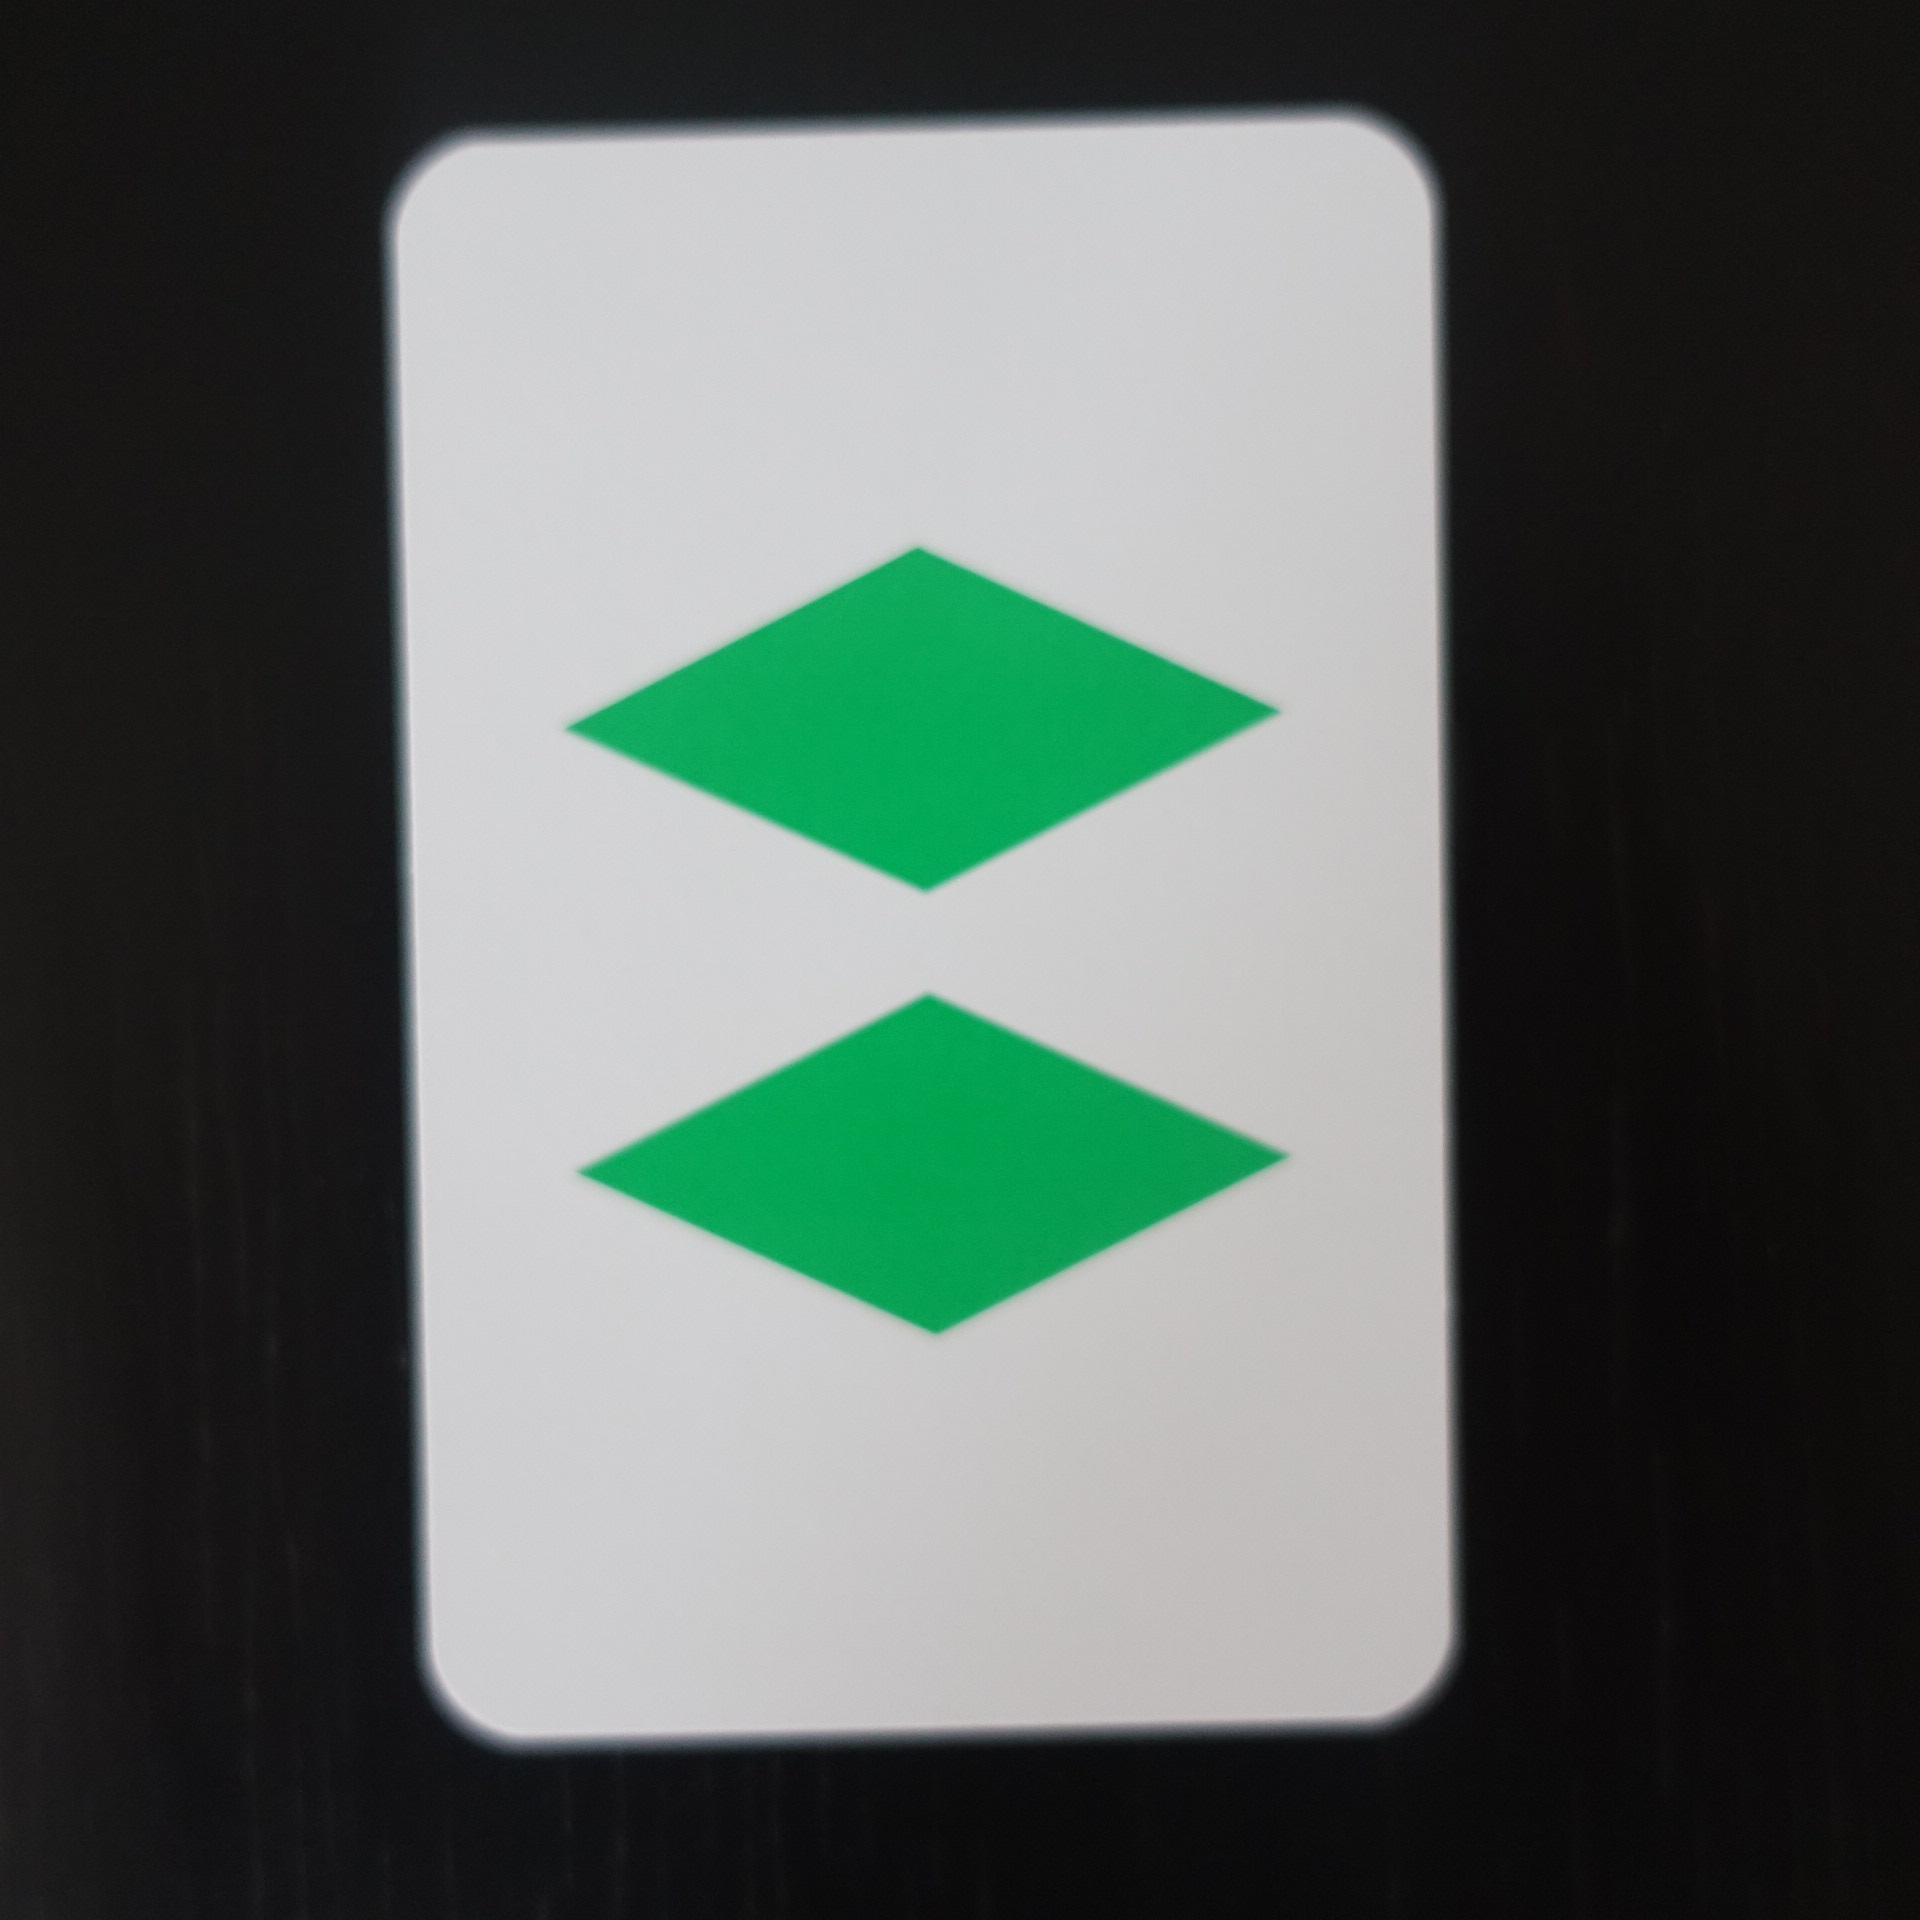c-2-f-d-r: (346, 86, 1498, 1771)
